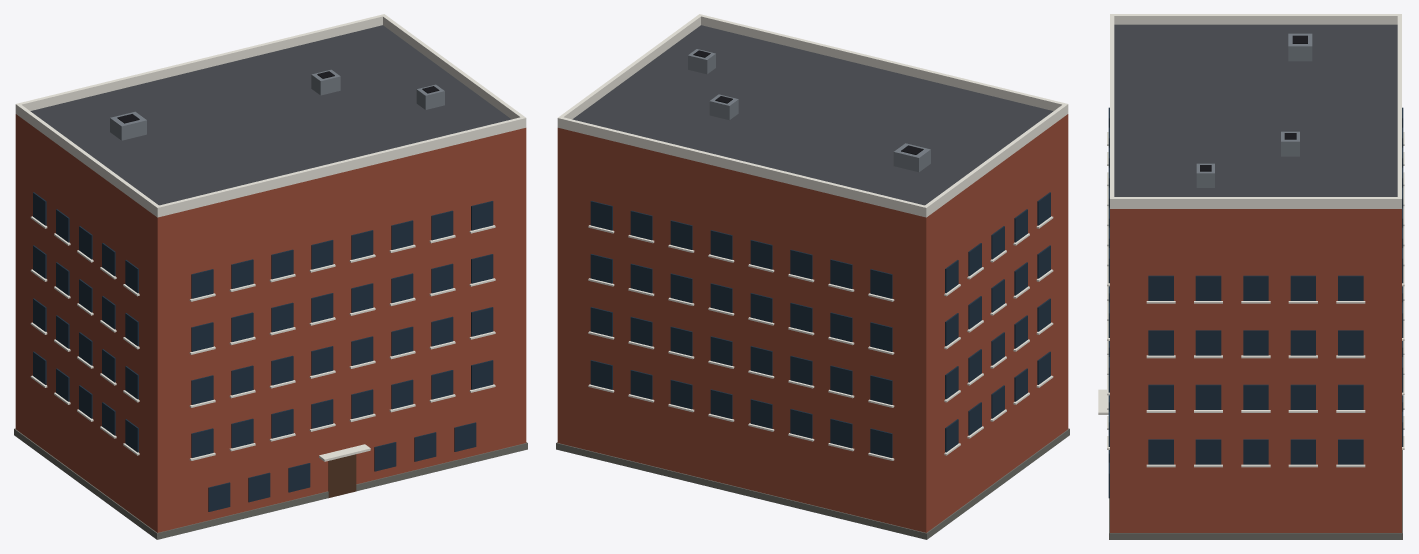
File: apartment_a.glb
The picture shows the model from 3 angles, left to right: view 1: azimuth 30°, elevation 25°; view 2: azimuth 150°, elevation 25°; view 3: azimuth 270°, elevation 25°; orthographic projection. The views are drawn at different scales.
Parts seen in each view (by area): view 1: apartment_a_Body; view 2: apartment_a_Body; view 3: apartment_a_Body.
Part boxes in pixels (x1,y1,x2,y2): apartment_a_Body: (14, 14, 527, 539); apartment_a_Body: (556, 14, 1069, 539); apartment_a_Body: (1098, 14, 1404, 539).
Bounding box in the file's own units: 24.32 × 20.99 × 16.81.
